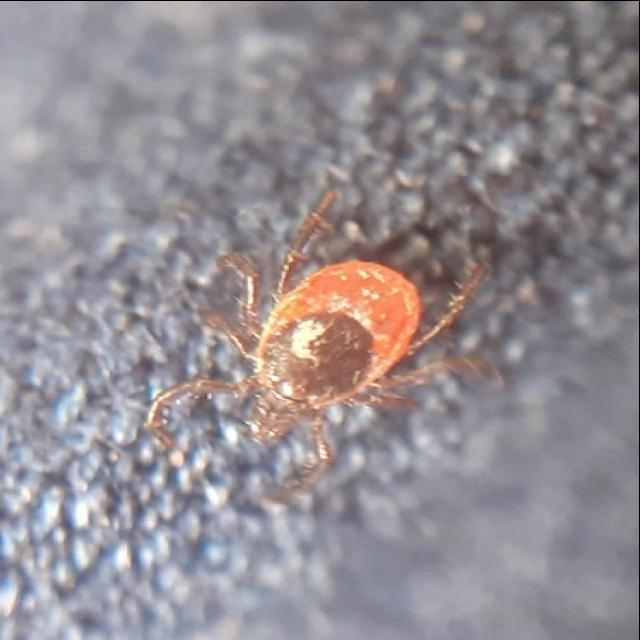Ixodes Ricinus-F: (143, 187, 497, 493)
